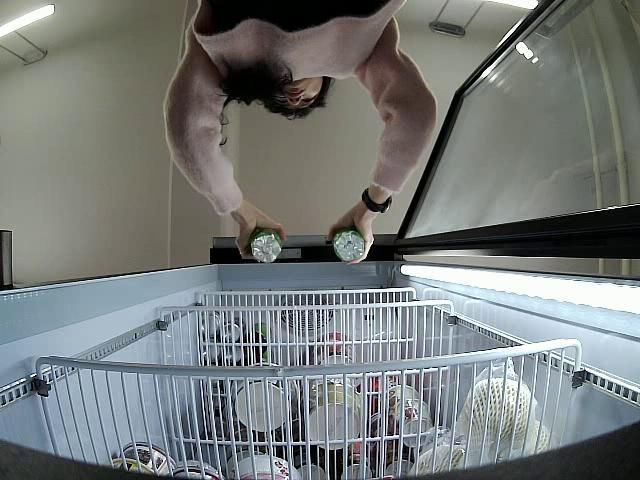18_trevi: (248, 229, 284, 266), (332, 226, 367, 262)
